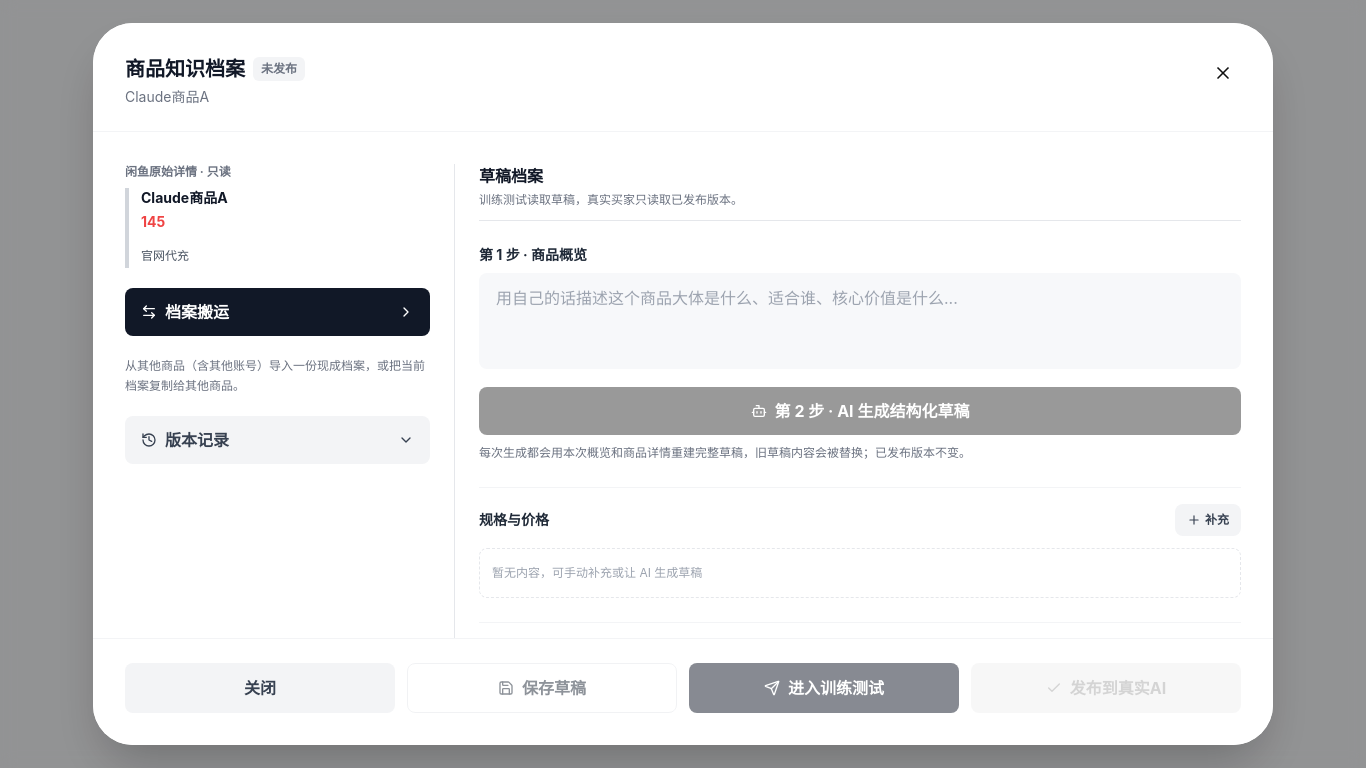
Test: ItemKnowledgeModal overview workflow › 点档案搬运会打开搬运弹窗，并把当前档案状态传下去
The image size is (1366, 768).
Expected: the heading "草稿档案" is shown, [479,166,543,186]
What coordinates should you click on to do the following:
click the button "档案搬运"
I would click on:
 (197, 312)
Its box is [125,288,430,336].
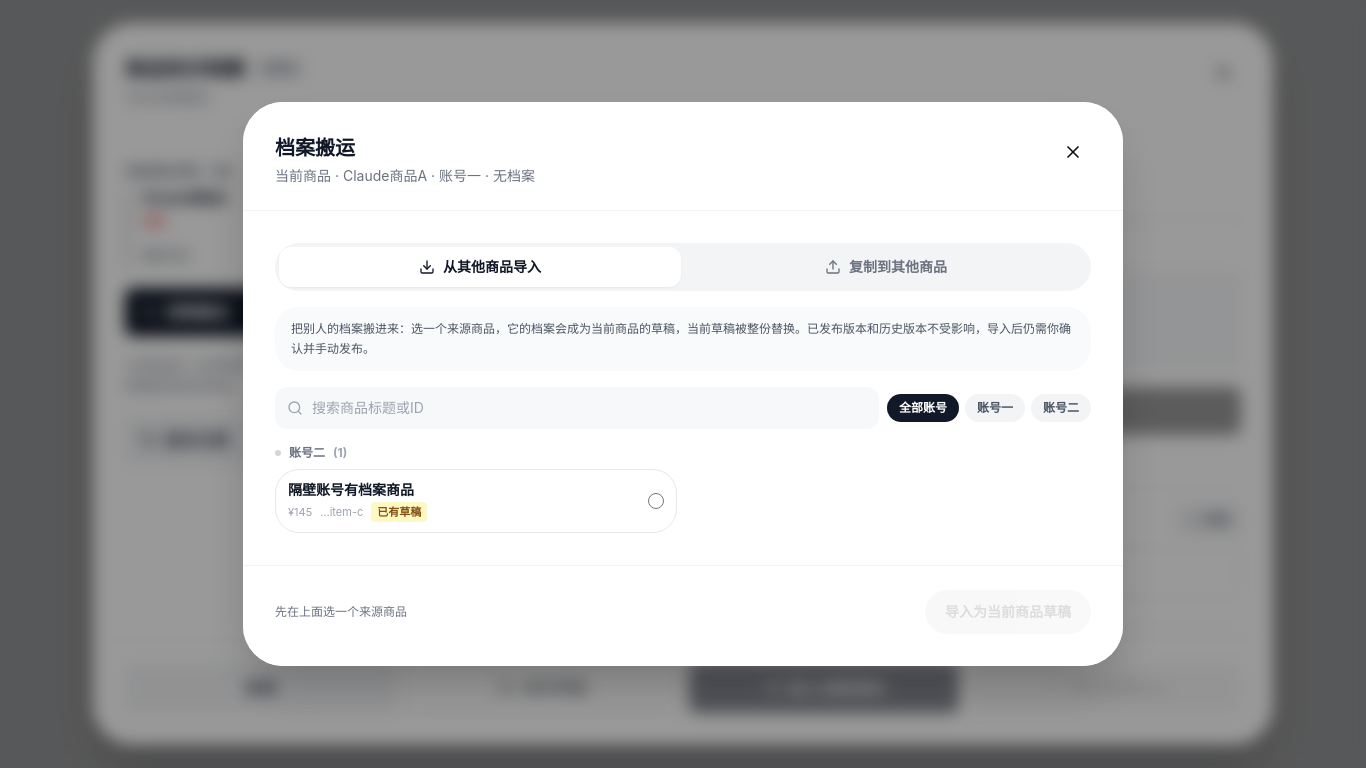
Now the tab "从其他商品导入" is shown, box [279,247,681,287]
Now the radio button labelled "隔壁账号有档案商品 ¥145 …item-c 已有草稿" is shown, box [648,493,664,509]
当前商品没有档案内容 → 分发方向被禁用并说明原因
What coordinates should you click on to do the following:
click the tab "复制到其他商品"
I would click on:
 (886, 267)
Its box is [685,247,1087,287].
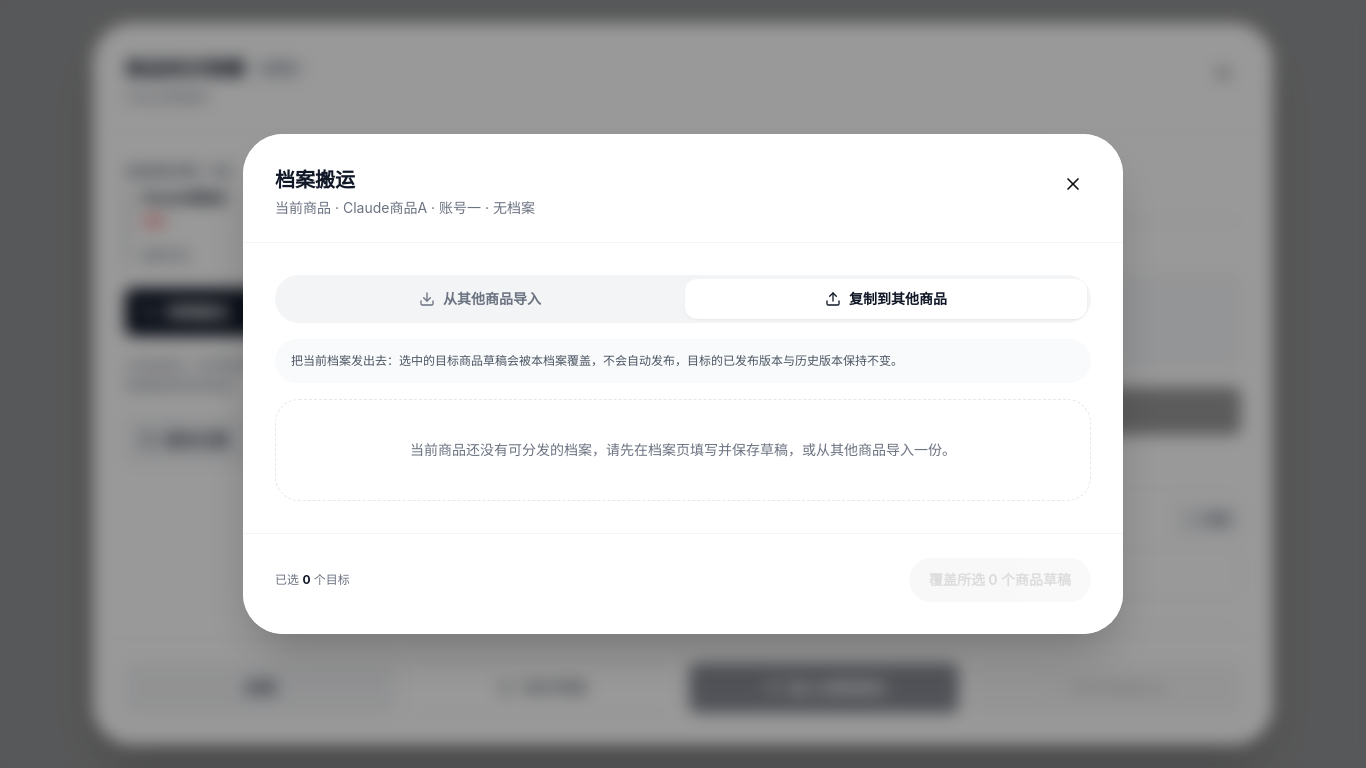
Now the text "当前商品还没有可分发的档案，请先在档案页填写并保存草稿，或从其他商品导入一份。" is shown, box [275,399,1091,501]
